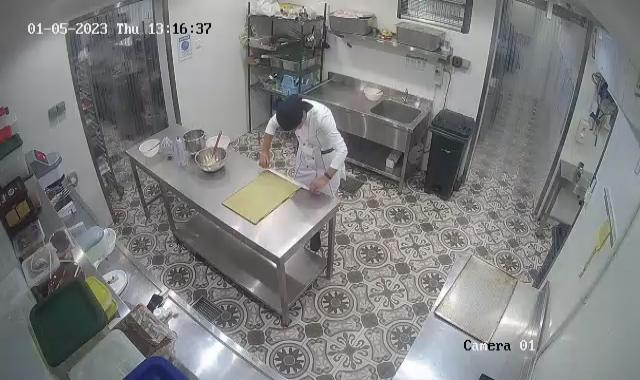no_hairnet: (274, 94, 310, 133)
